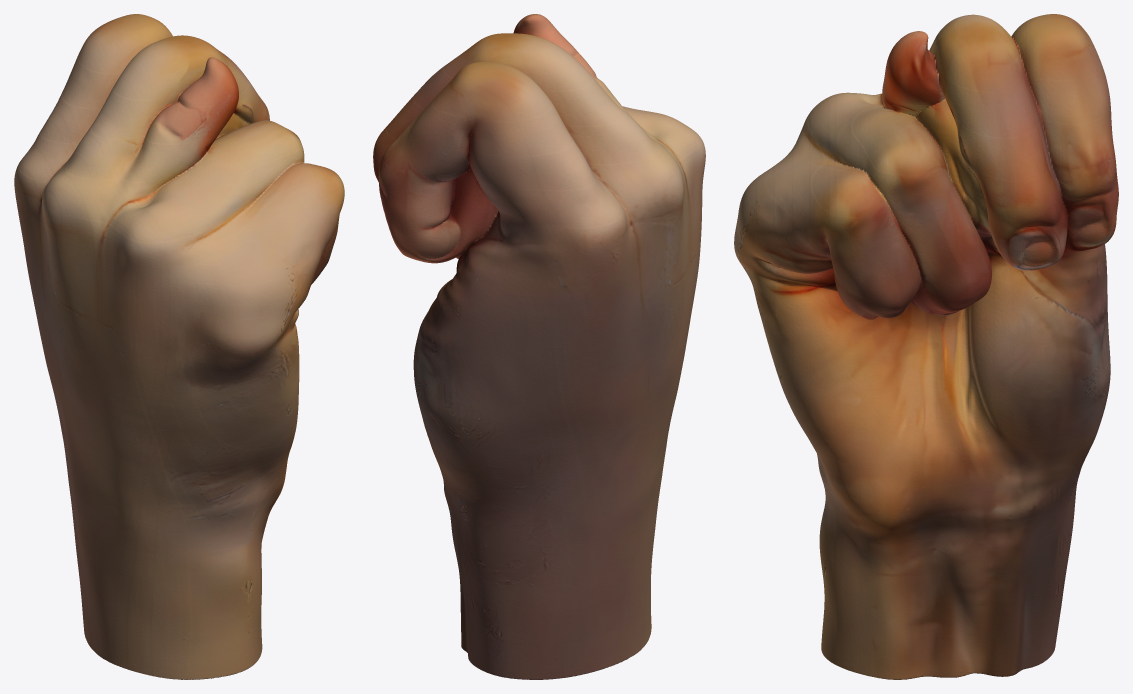
The model's file is letter_N.glb.
The picture shows the model from 3 angles, left to right: view 1: azimuth 30°, elevation 25°; view 2: azimuth 150°, elevation 25°; view 3: azimuth 270°, elevation 25°; orthographic projection. The views are drawn at different scales.
Parts seen in each view (by area): view 1: tripo_node_e72a6f50-d46a-460c-a25f-e4254cea0a20; view 2: tripo_node_e72a6f50-d46a-460c-a25f-e4254cea0a20; view 3: tripo_node_e72a6f50-d46a-460c-a25f-e4254cea0a20.
Boxes of the visible parts, bbox=[...] form: tripo_node_e72a6f50-d46a-460c-a25f-e4254cea0a20: bbox=[14, 14, 344, 679]; tripo_node_e72a6f50-d46a-460c-a25f-e4254cea0a20: bbox=[373, 14, 705, 679]; tripo_node_e72a6f50-d46a-460c-a25f-e4254cea0a20: bbox=[734, 14, 1118, 679].
Size of the model in its own units: 0.4596 by 1 by 0.5529.
Materials: 1 (1 with a texture image).
